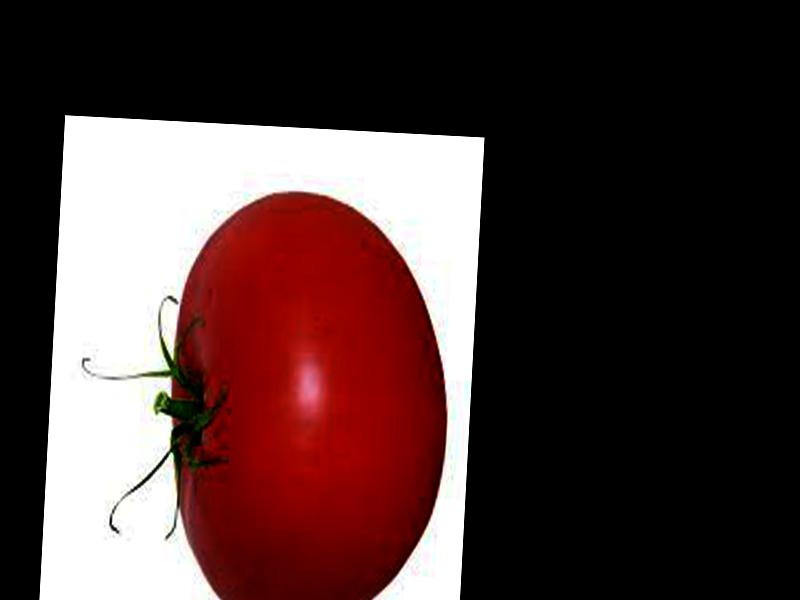Tomato: (159, 190, 456, 600)
